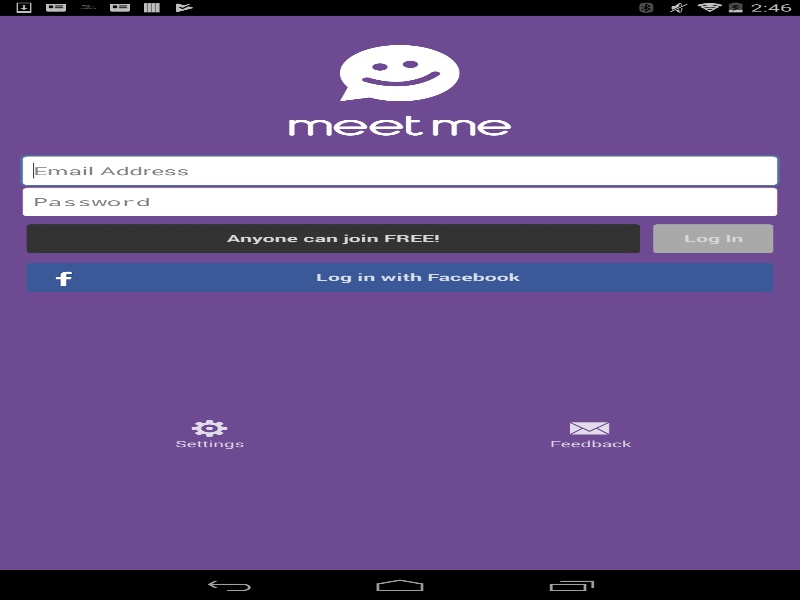Button: (20, 260, 780, 295), (20, 221, 646, 256), (646, 221, 780, 256)
Input: (20, 155, 780, 186), (20, 186, 780, 217)
